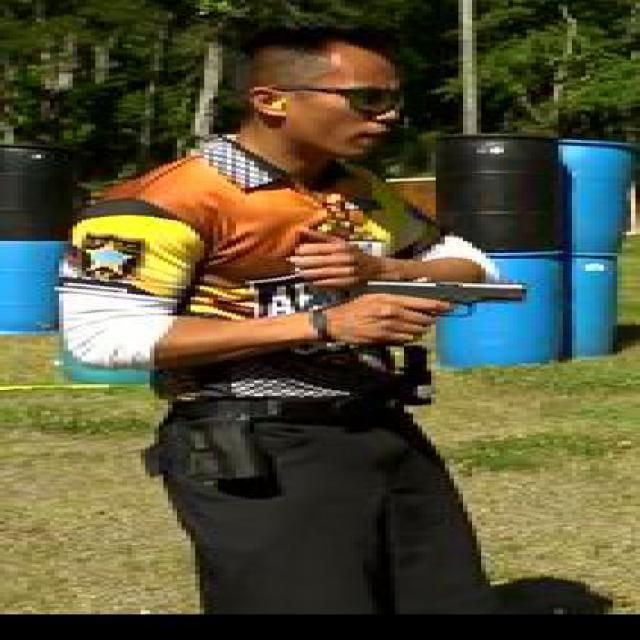gun: (349, 274, 532, 345)
